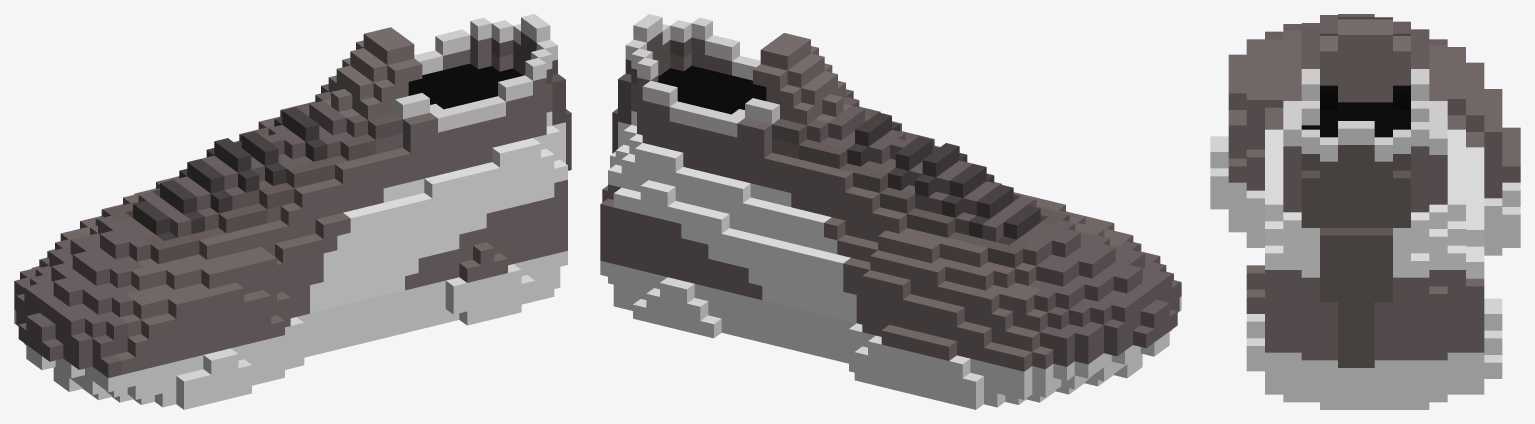
File: Steamed.fbx
3 views of the same model, side by side, from view 1: azimuth 30°, elevation 25°; view 2: azimuth 150°, elevation 25°; view 3: azimuth 270°, elevation 25° (orthographic). The views are drawn at different scales.
Visible parts, largest first — view 1: Untitled; view 2: Untitled; view 3: Untitled.
Boxes of the visible parts, <box> form: Untitled: <box>14,14,571,409</box>; Untitled: <box>600,14,1181,409</box>; Untitled: <box>1210,14,1520,409</box>.
Bounding box in the file's own units: 390 × 180 × 170.
